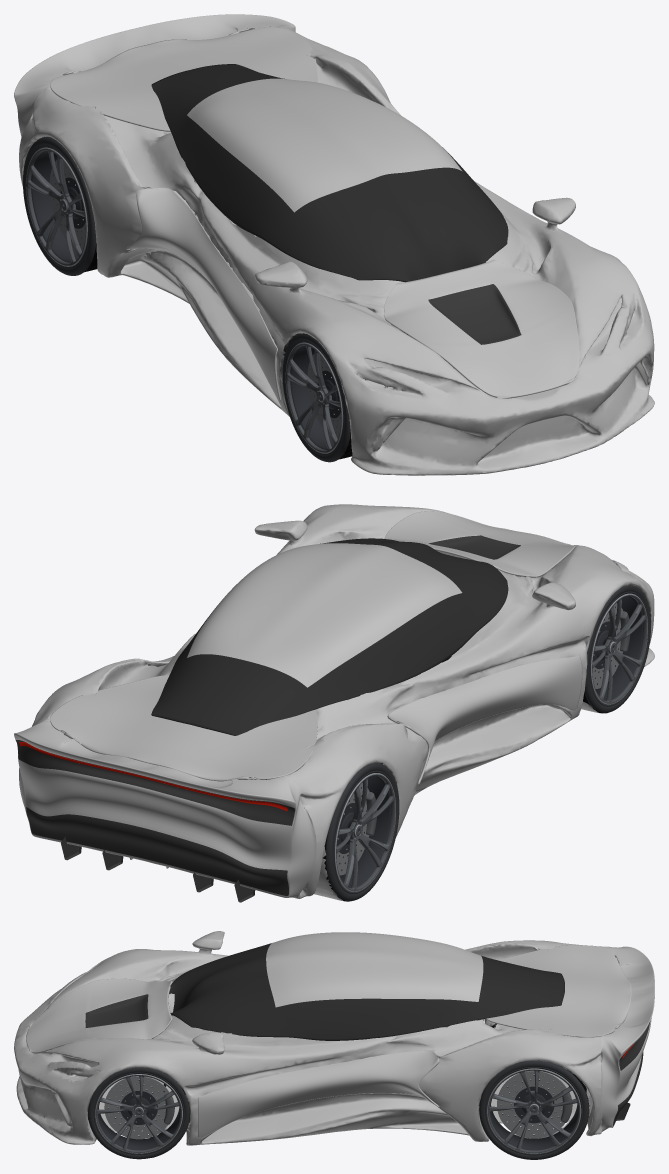
File: CarConcept_Reduced.glb
3 renders of one model, top to bottom at view 1: azimuth 30°, elevation 25°; view 2: azimuth 150°, elevation 25°; view 3: azimuth 270°, elevation 25°, orthographic. The views are drawn at different scales.
Parts seen in each view (by area): view 1: Exterior | Reference-Fitted Surfaces, Canopy | Windshield, Roof and Rear Glass, Hood | Fitted Crown and Recessed Extractor, Rear | Engine Cover, Doors | Sculpted Side Panels, Rear | Deck, Lamp Recess and Bumper, Rear -X | Rim | Five Split Spokes, Front -X | Rim | Five Split Spokes, Rear -X | Rim | Barrel, Lip and Fasteners, Rear -X | Tire Bead, Front -X | Rim | Barrel, Lip and Fasteners, Front -X | Tire Bead (+2 smaller); view 2: Canopy | Windshield, Roof and Rear Glass, Exterior | Reference-Fitted Surfaces, Rear | Deck, Lamp Recess and Bumper, Rear | Engine Cover, Doors | Sculpted Side Panels, Hood | Fitted Crown and Recessed Extractor, Rear -X | Rim | Five Split Spokes, Front -X | Rim | Five Split Spokes, Rear -X | Rim | Barrel, Lip and Fasteners, Rear -X | Tire Bead, Front -X | Rim | Barrel, Lip and Fasteners, Front -X | Tire Bead (+3 smaller); view 3: Exterior | Reference-Fitted Surfaces, Canopy | Windshield, Roof and Rear Glass, Doors | Sculpted Side Panels, Rear | Engine Cover, Hood | Fitted Crown and Recessed Extractor, Rear | Deck, Lamp Recess and Bumper, Rear +X | Brake | Cross-Drilled Rotor, Rear +X | Tire Bead, Front +X | Brake | Cross-Drilled Rotor, Rear +X | Rim | Five Split Spokes, Front +X | Rim | Five Split Spokes, Front +X | Tire Bead (+2 smaller).
Boxes of the visible parts, box(x1,y1,x2,y2) form: Exterior | Reference-Fitted Surfaces: box(19, 29, 654, 475); Canopy | Windshield, Roof and Rear Glass: box(151, 64, 508, 282); Hood | Fitted Crown and Recessed Extractor: box(384, 259, 579, 398); Rear | Engine Cover: box(50, 26, 317, 131); Doors | Sculpted Side Panels: box(126, 187, 508, 401); Rear | Deck, Lamp Recess and Bumper: box(14, 14, 295, 151); Rear -X | Rim | Five Split Spokes: box(26, 148, 86, 265); Front -X | Rim | Five Split Spokes: box(286, 343, 341, 452); Rear -X | Rim | Barrel, Lip and Fasteners: box(26, 147, 87, 266); Rear -X | Tire Bead: box(23, 136, 96, 275); Front -X | Rim | Barrel, Lip and Fasteners: box(285, 342, 343, 453); Front -X | Tire Bead: box(282, 333, 350, 462); Canopy | Windshield, Roof and Rear Glass: box(151, 538, 508, 735); Exterior | Reference-Fitted Surfaces: box(32, 504, 654, 901); Rear | Deck, Lamp Recess and Bumper: box(14, 718, 316, 898); Rear | Engine Cover: box(50, 675, 317, 781); Doors | Sculpted Side Panels: box(145, 656, 582, 784); Hood | Fitted Crown and Recessed Extractor: box(384, 511, 577, 577); Rear -X | Rim | Five Split Spokes: box(335, 774, 395, 891); Front -X | Rim | Five Split Spokes: box(592, 594, 647, 703); Rear -X | Rim | Barrel, Lip and Fasteners: box(334, 773, 395, 891); Rear -X | Tire Bead: box(326, 763, 399, 901); Front -X | Rim | Barrel, Lip and Fasteners: box(590, 593, 647, 704); Front -X | Tire Bead: box(585, 585, 650, 712); Exterior | Reference-Fitted Surfaces: box(14, 931, 601, 1157); Canopy | Windshield, Roof and Rear Glass: box(163, 932, 564, 1091); Doors | Sculpted Side Panels: box(197, 1050, 439, 1137); Rear | Engine Cover: box(486, 945, 631, 1037); Hood | Fitted Crown and Recessed Extractor: box(26, 978, 172, 1053); Rear | Deck, Lamp Recess and Bumper: box(601, 946, 654, 1132); Rear +X | Brake | Cross-Drilled Rotor: box(497, 1070, 566, 1138); Rear +X | Tire Bead: box(479, 1060, 588, 1159); Front +X | Brake | Cross-Drilled Rotor: box(104, 1076, 169, 1139); Rear +X | Rim | Five Split Spokes: box(487, 1069, 580, 1153); Front +X | Rim | Five Split Spokes: box(95, 1074, 182, 1153); Front +X | Tire Bead: box(88, 1067, 189, 1159).
Size of the model in its own units: 1.75 by 1.04 by 3.97.
Materials: 13 (1 with a texture image).
